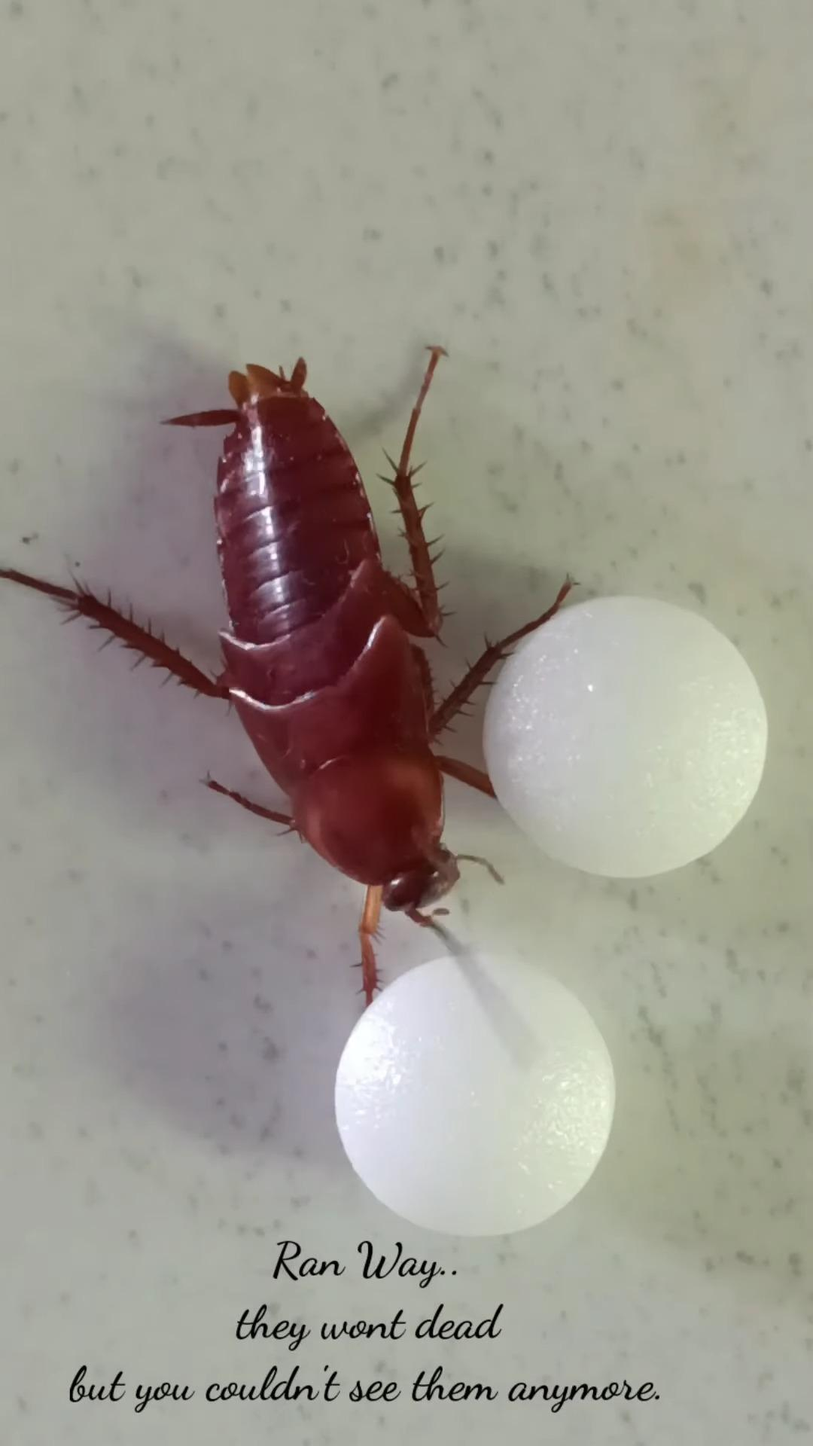cockroach: (0, 282, 472, 922)
